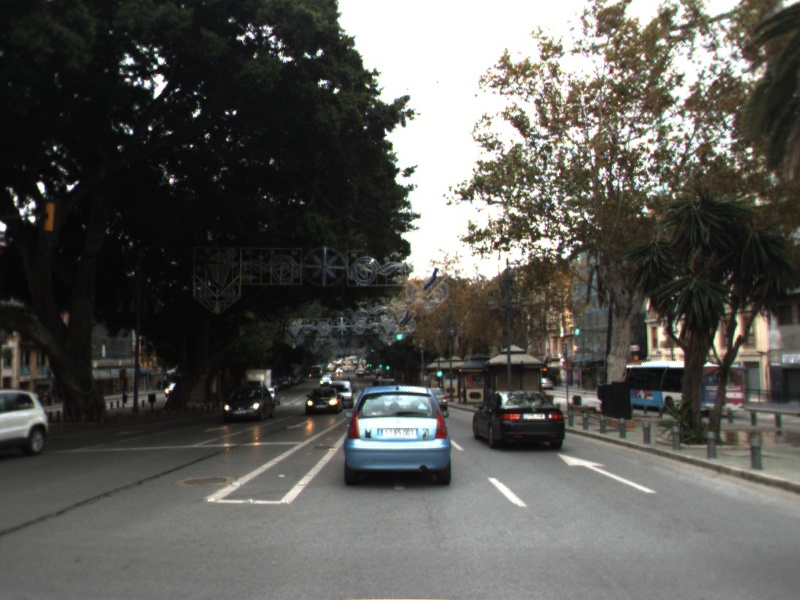STRAIGHT: (555, 452, 659, 495)
